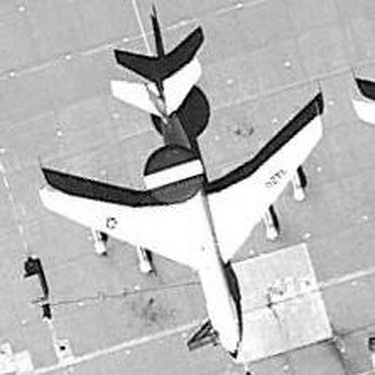airplane: (17, 43, 327, 355)
